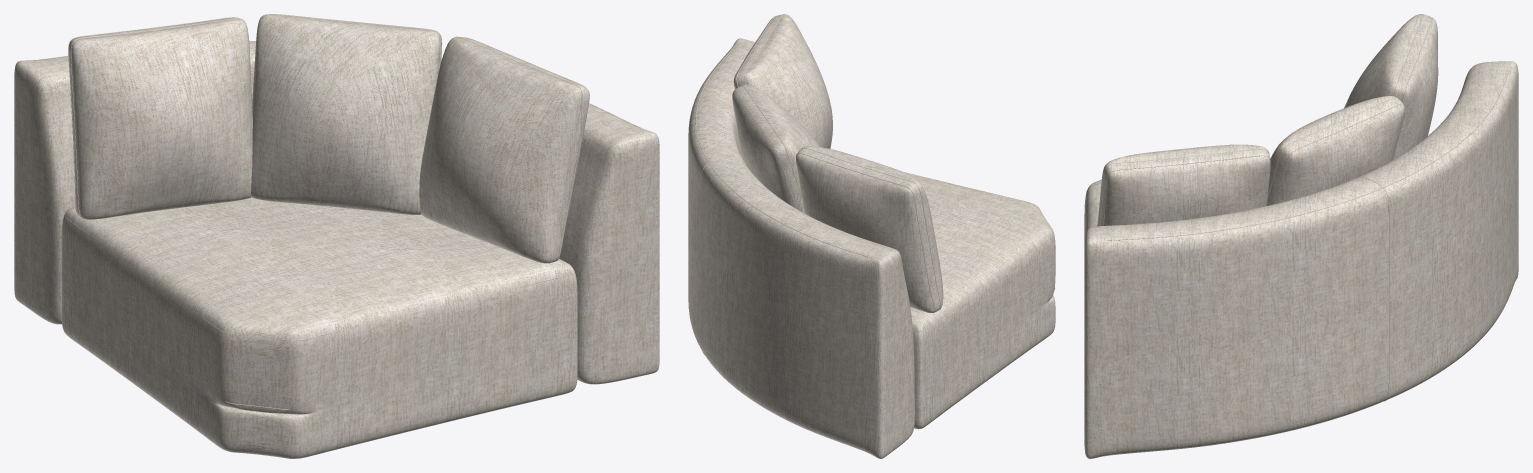
Rendered from corner.glb.
3 renders of one model, left to right at view 1: azimuth 30°, elevation 25°; view 2: azimuth 150°, elevation 25°; view 3: azimuth 270°, elevation 25°, orthographic. The views are drawn at different scales.
Bounding box in the file's own units: 1.13 × 0.7746 × 1.13.
1 material, 1 textured.
